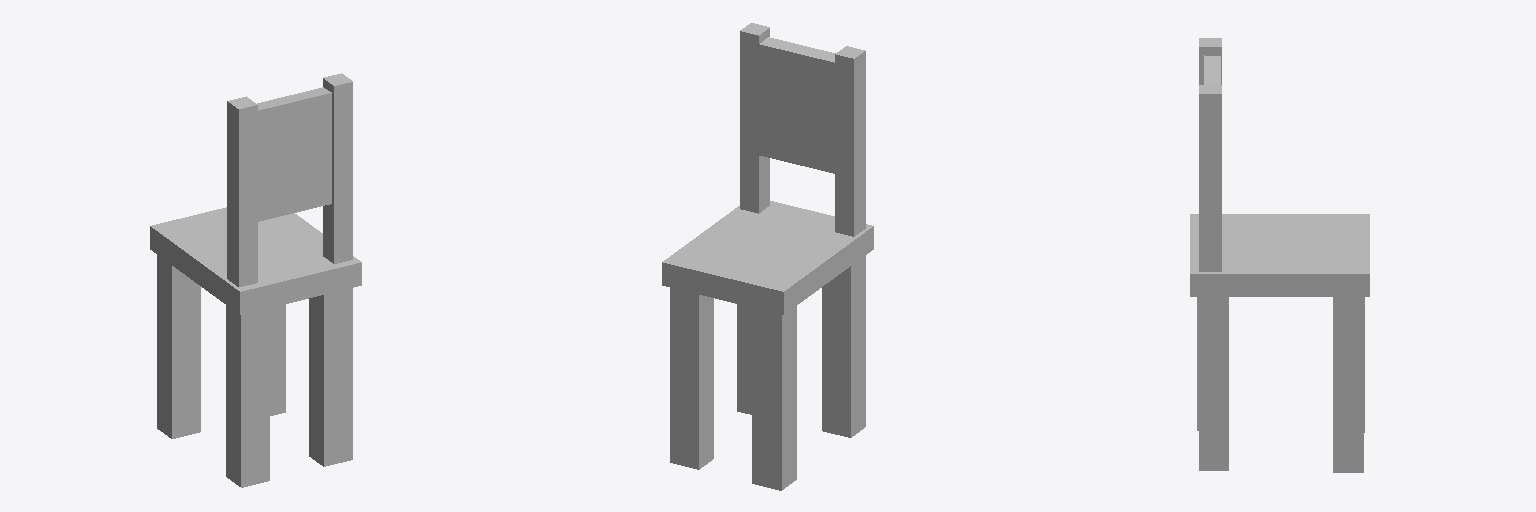
File: Chair.obj
3 renders of one model, left to right at view 1: azimuth 30°, elevation 25°; view 2: azimuth 150°, elevation 25°; view 3: azimuth 270°, elevation 25°, orthographic.
Size of the model in its own units: 0.7305 by 2.18 by 0.9375.